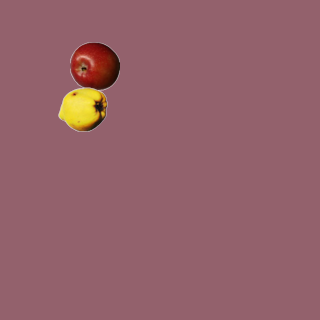Apple Braeburn: (69, 41, 119, 91)
Quince: (57, 84, 107, 134)
